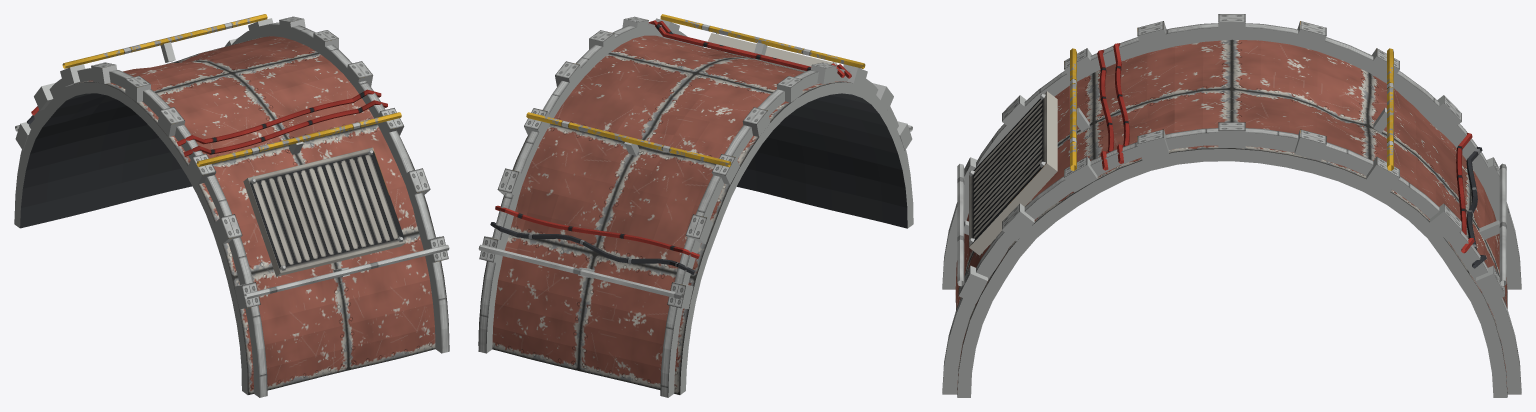
The model's file is hull_grille_red.fbx.
3 views of the same model, side by side, from view 1: azimuth 30°, elevation 25°; view 2: azimuth 150°, elevation 25°; view 3: azimuth 270°, elevation 25° (orthographic). The views are drawn at different scales.
Parts seen in each view (by area): view 1: hull_grille_red; view 2: hull_grille_red; view 3: hull_grille_red.
Part boxes in pixels (x1=…): hull_grille_red: x1=14, y1=14, x2=449, y2=397; hull_grille_red: x1=478, y1=14, x2=913, y2=397; hull_grille_red: x1=942, y1=14, x2=1521, y2=397.
Bounding box in the file's own units: 1.01 × 1.07 × 2.1.
1 material, 1 textured.
